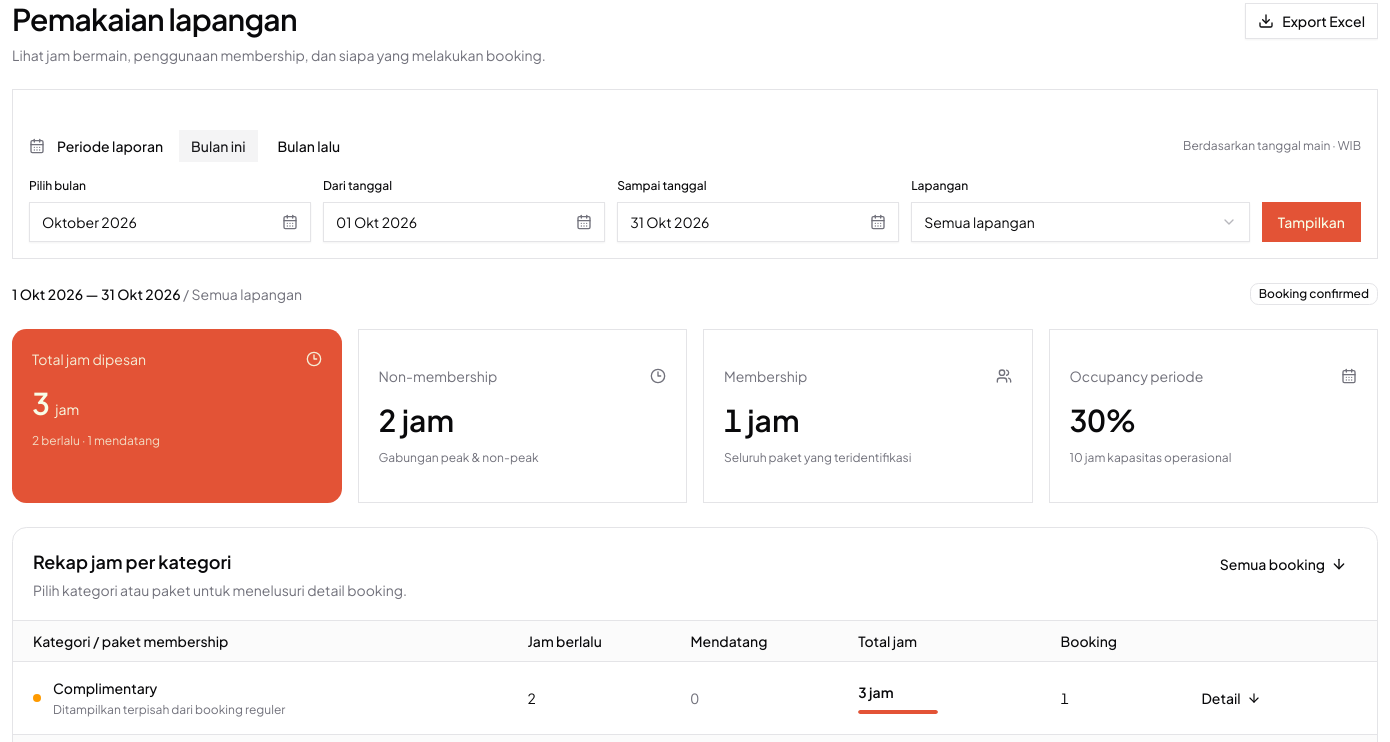
Test: Court Performance UI › shows one complimentary invoice row with summed hours and every schedule
Click the button with aria-label "Lihat detail Complimentary" at (1231,698), box 1192,682 -> 1271,714
(page scrolled)
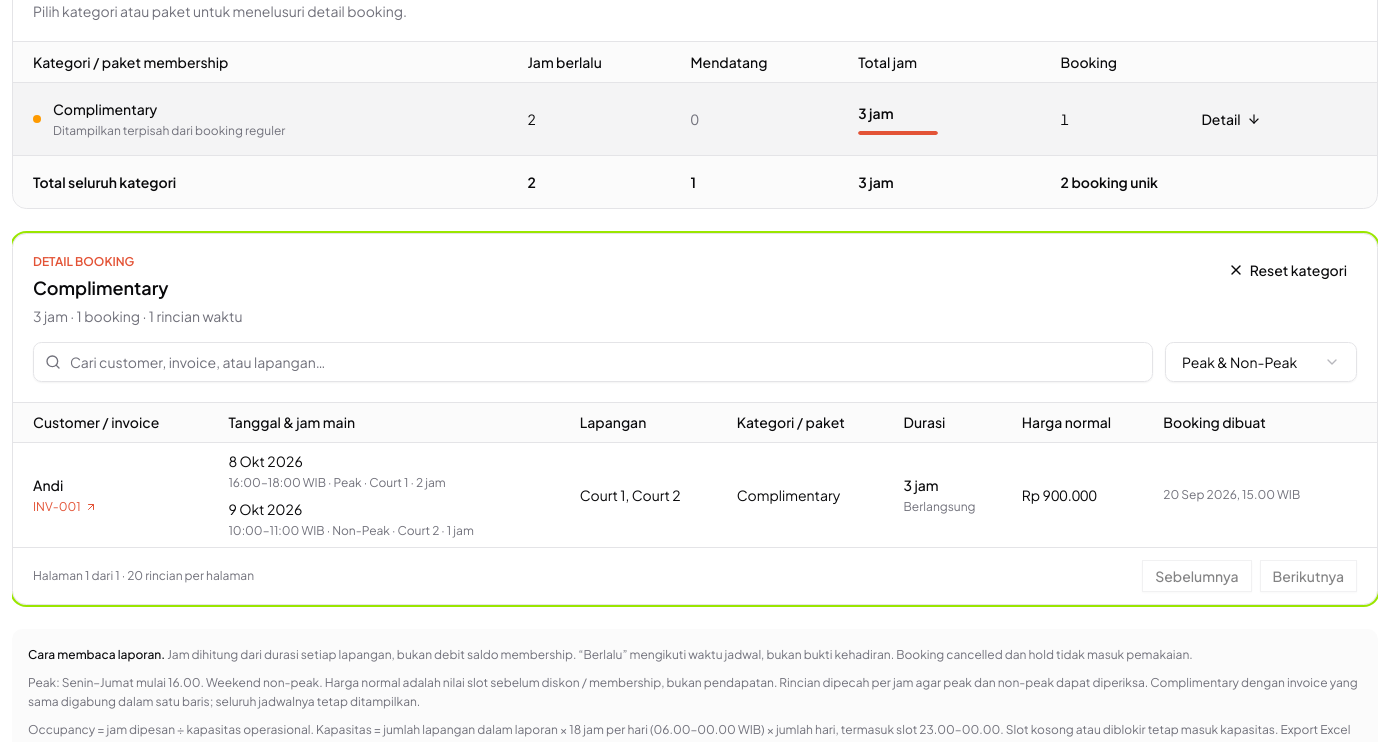
Expected: the number of links "INV-001" is 1, 33,499 -> 97,515
Expected: the text "3 jam" in the row of "Andi" is shown, 904,476 -> 939,494
Press ArrowDown in the dropdown named "Filter peak dan non-peak", box 1165,342 -> 1357,382
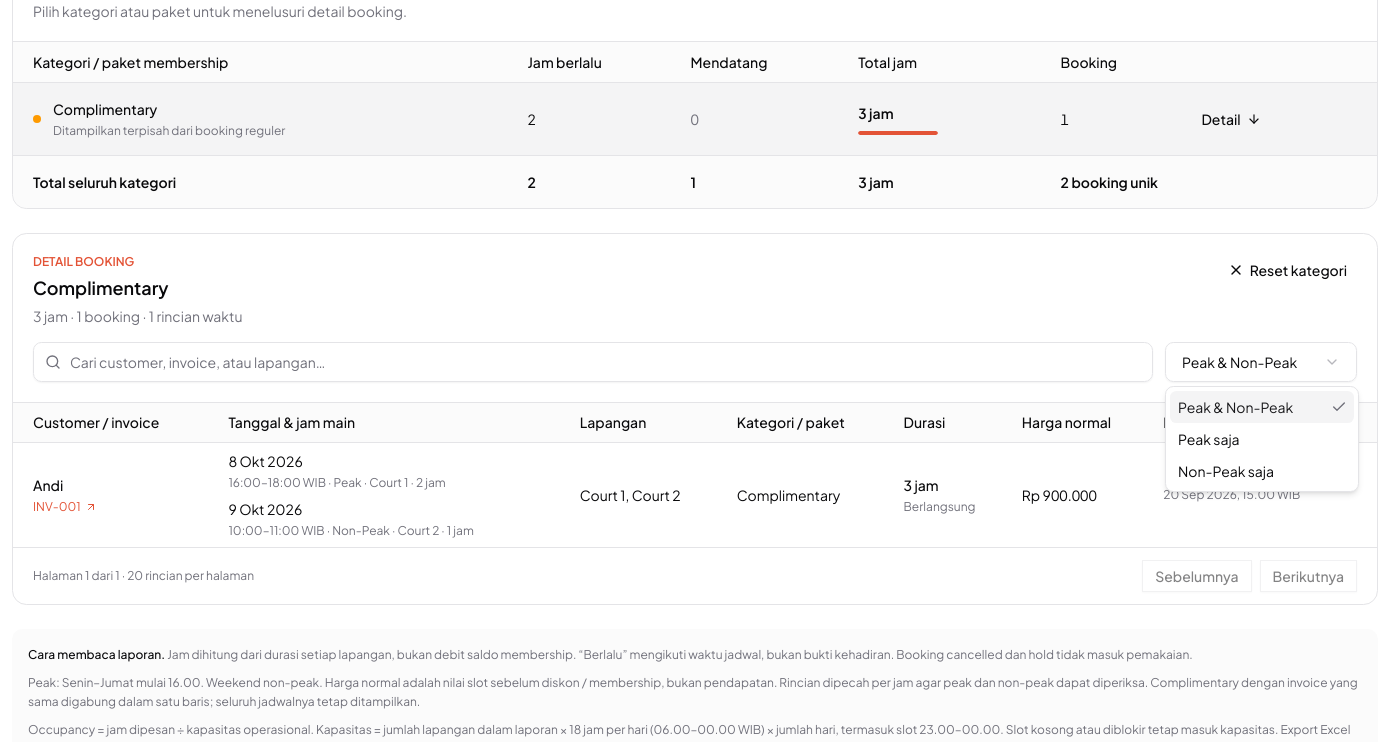
Click the option "Peak saja" at (1209,439), box 1178,430 -> 1240,448
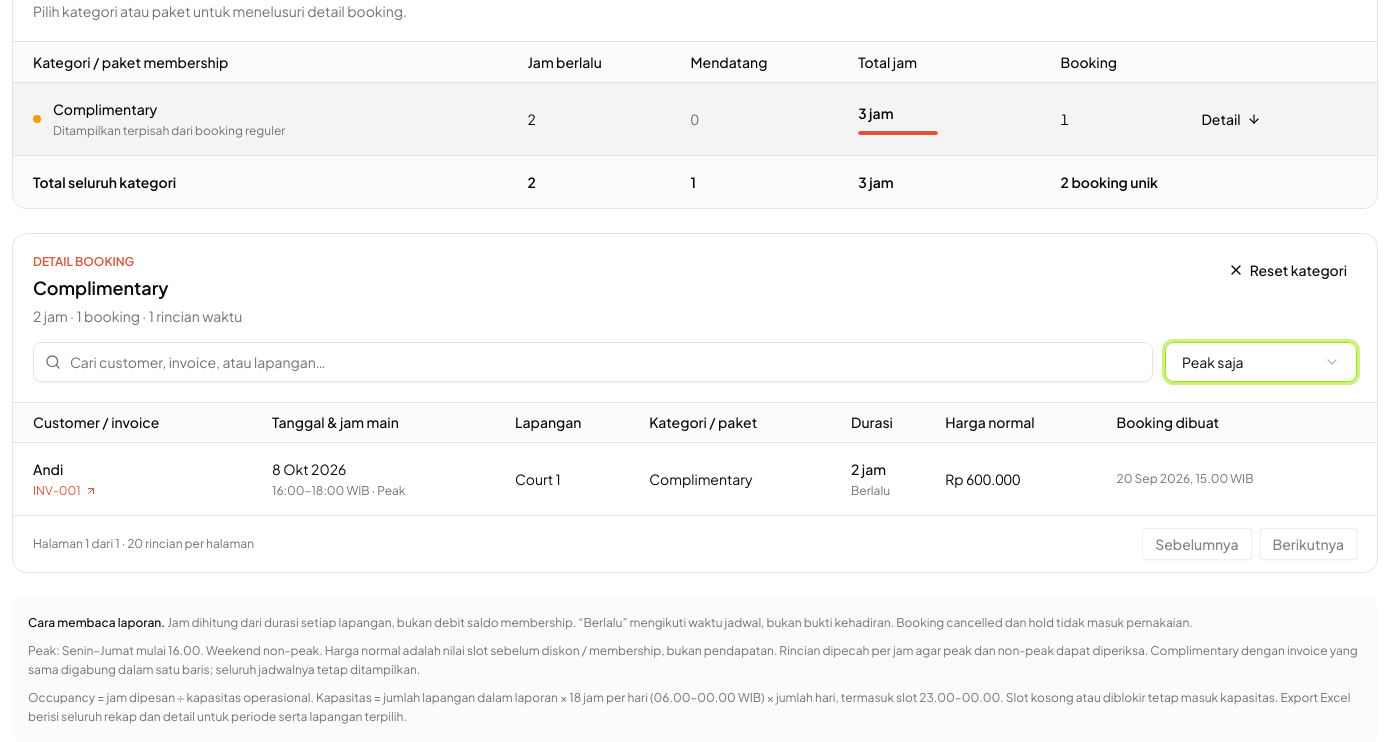
Expected: the text "2 jam" is shown, 851,460 -> 886,478
Expected: the text "10:00–11:00 WIB" is gone
